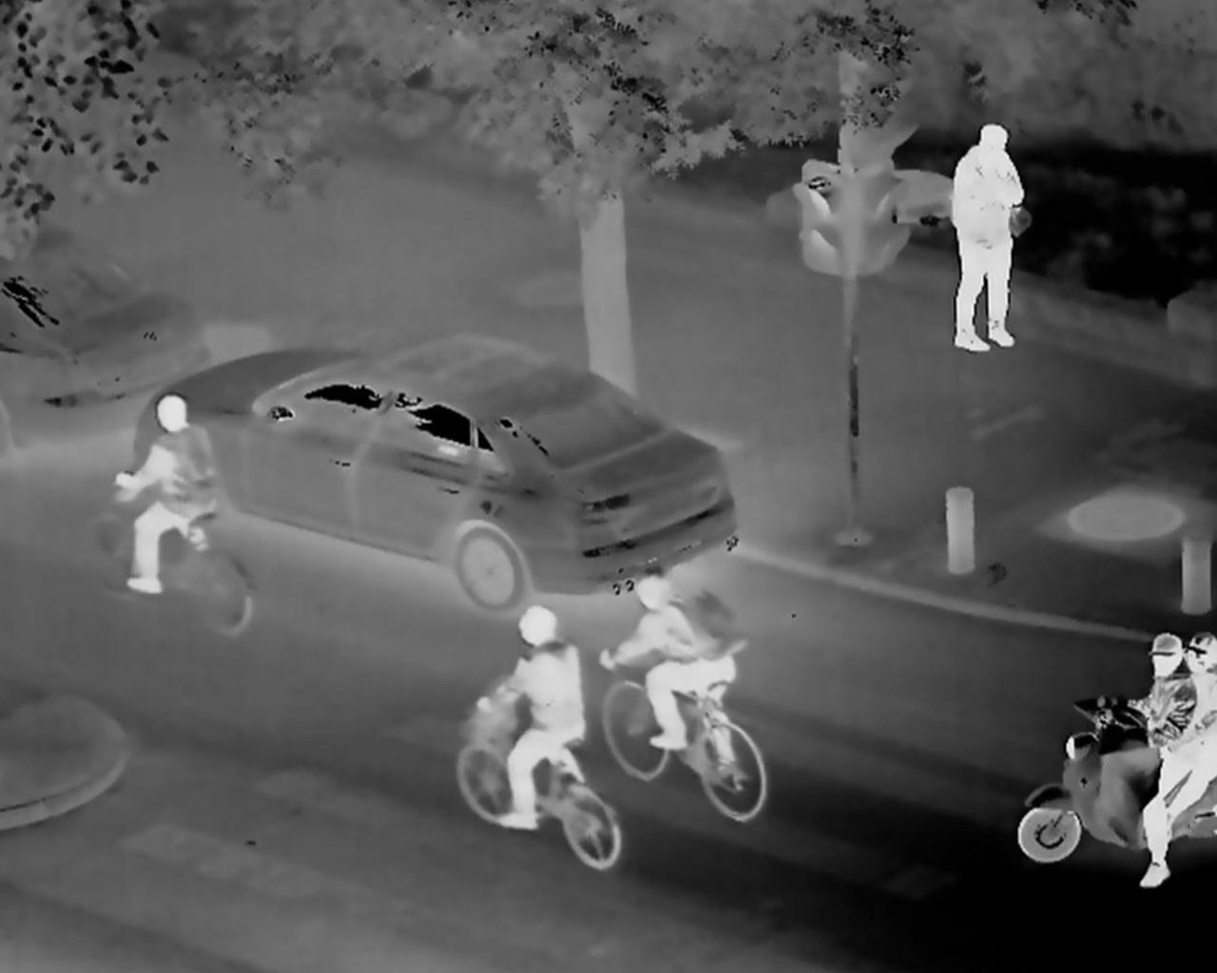person: (604, 561, 741, 767), (470, 603, 585, 842), (99, 394, 228, 605), (1124, 626, 1217, 901), (950, 122, 1023, 354)
